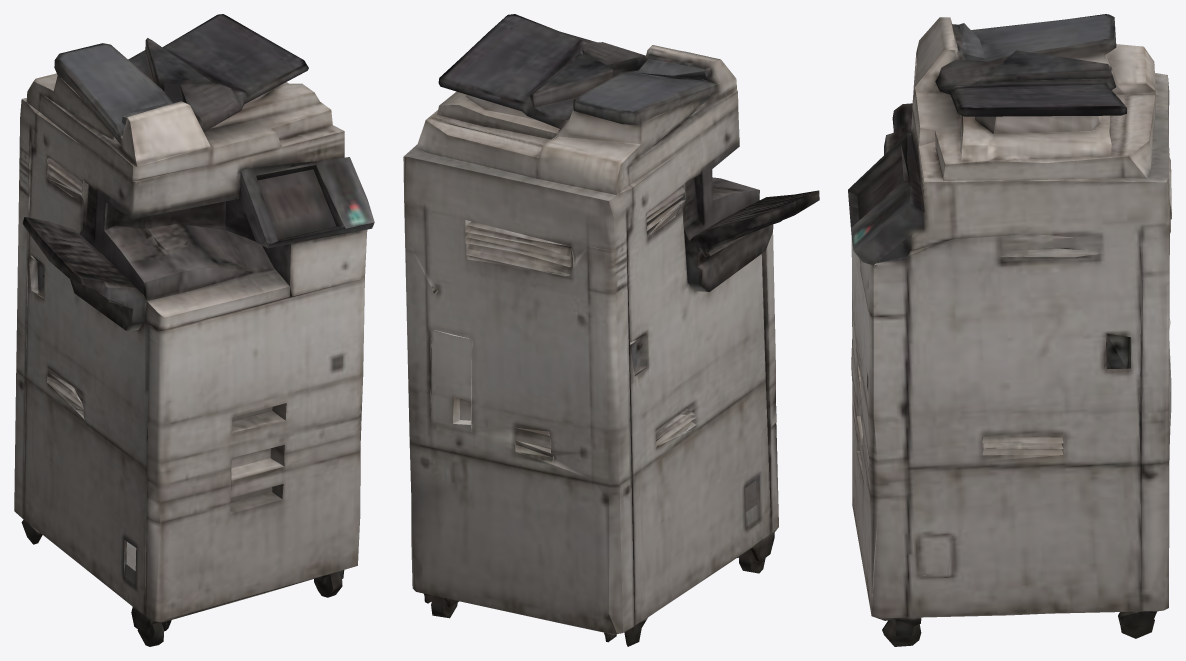
The model's file is p7-office-copier.glb.
The picture shows the model from 3 angles, left to right: view 1: azimuth 30°, elevation 25°; view 2: azimuth 150°, elevation 25°; view 3: azimuth 270°, elevation 25°; orthographic projection. The views are drawn at different scales.
Visible parts, largest first — view 1: p7-office-copier; view 2: p7-office-copier; view 3: p7-office-copier.
Boxes of the visible parts, x1,y1,x2,y2 form: p7-office-copier: (14, 14, 374, 646); p7-office-copier: (403, 14, 819, 646); p7-office-copier: (848, 14, 1171, 646).
Bounding box in the file's own units: 0.6981 × 1.2 × 0.65.
1 material, 1 textured.
